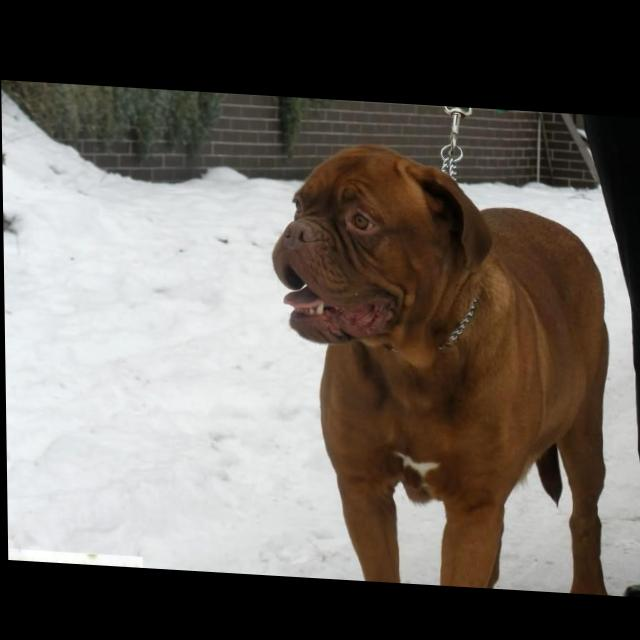dogue_de_bordeaux: (271, 136, 615, 589)
